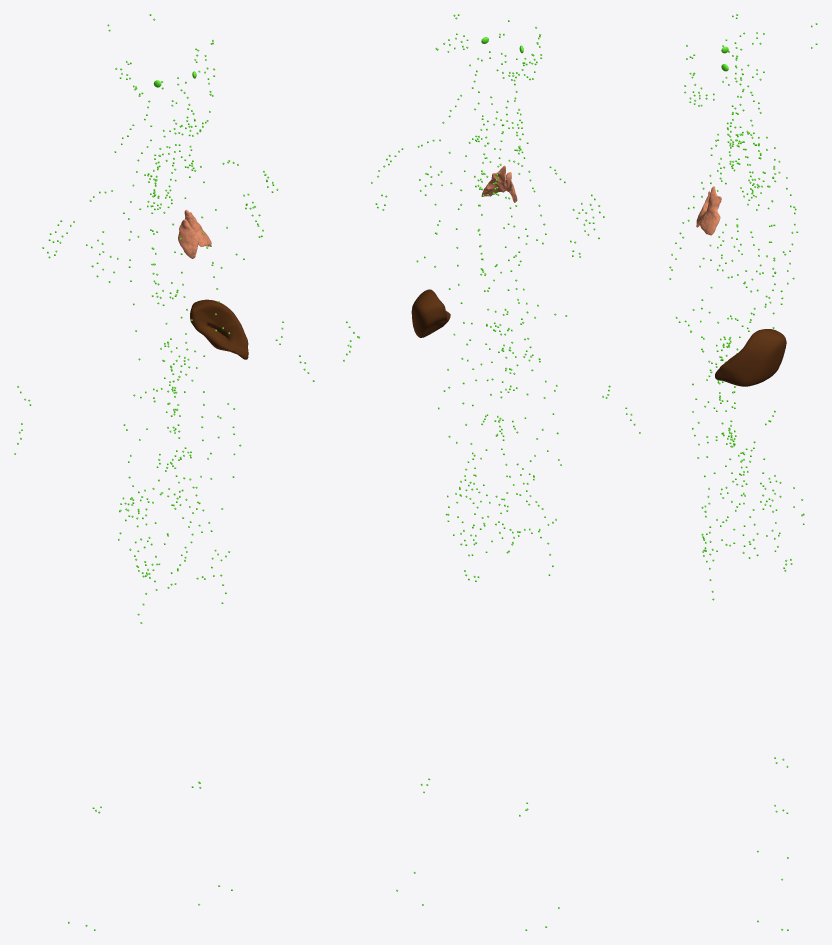
File: lymphatic.glb
The picture shows the model from 3 angles, left to right: view 1: azimuth 30°, elevation 25°; view 2: azimuth 150°, elevation 25°; view 3: azimuth 270°, elevation 25°; orthographic projection.
Visible parts, largest first — view 1: Spleen; view 2: Spleen; view 3: Spleen, Left lobe of thymus.
Part boxes in pixels (bbox=[...]): Spleen: bbox=[190, 299, 248, 359]; Spleen: bbox=[411, 289, 450, 337]; Spleen: bbox=[715, 329, 786, 386]; Left lobe of thymus: bbox=[699, 186, 721, 235].
Bounding box in the file's own units: 0.4523 × 1.28 × 0.1963.
